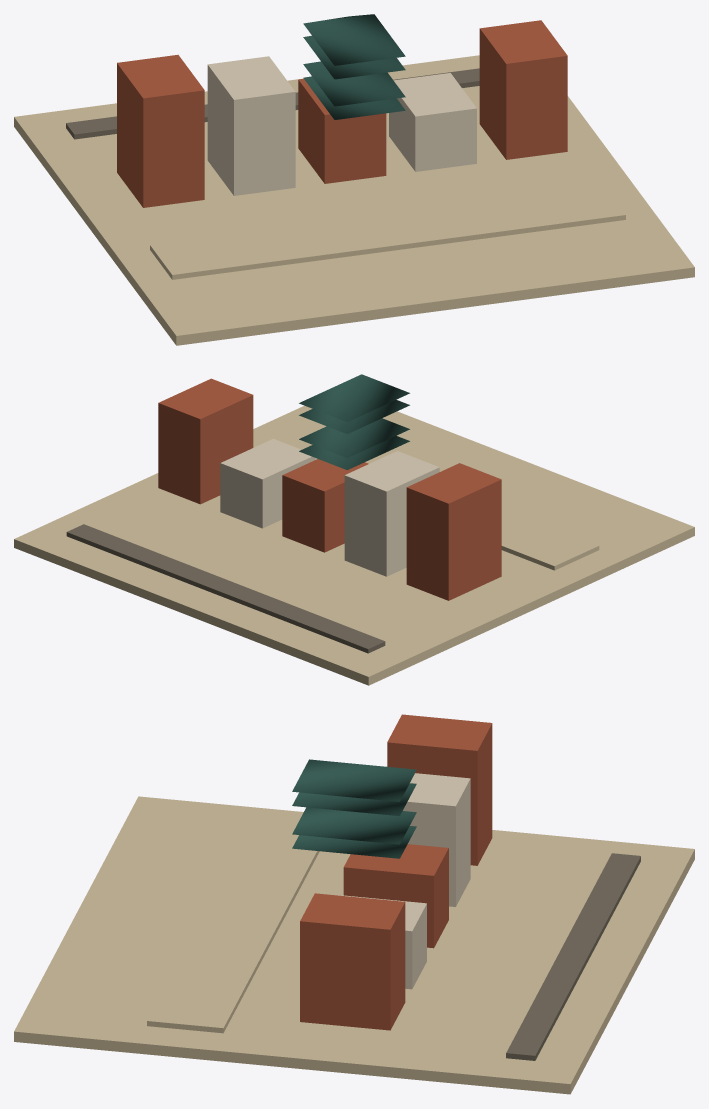
The model's file is model-medium.glb.
The picture shows the model from 3 angles, top to bottom: view 1: azimuth 30°, elevation 25°; view 2: azimuth 150°, elevation 25°; view 3: azimuth 270°, elevation 25°; orthographic projection. The views are drawn at different scales.
Parts seen in each view (by area): view 1: context_site_plinth, street_public_axis, street_facade_0, street_facade_1, street_facade_4, street_facade_3, street_facade_2, street_roof_0, street_roof_2, front_scale_strip, street_roof_1, street_roof_3; view 2: context_site_plinth, street_facade_0, street_facade_4, street_facade_1, front_scale_strip, street_facade_3, street_facade_2, street_public_axis, street_roof_0, street_roof_2, street_roof_3, street_roof_1; view 3: context_site_plinth, street_public_axis, street_facade_4, street_facade_0, front_scale_strip, street_facade_2, street_facade_1, street_roof_0, street_roof_2, street_facade_3, street_roof_1, street_roof_3.
Boxes of the visible parts, x1,y1,x2,y2 form: context_site_plinth: (14, 55, 694, 345); street_public_axis: (150, 185, 625, 279); street_facade_0: (117, 54, 204, 207); street_facade_1: (207, 56, 295, 195); street_facade_4: (479, 20, 567, 159); street_facade_3: (389, 73, 476, 171); street_facade_2: (298, 78, 386, 183); street_roof_0: (303, 14, 405, 65); street_roof_2: (303, 61, 405, 106); front_scale_strip: (66, 68, 479, 139); street_roof_1: (303, 29, 405, 79); street_roof_3: (303, 76, 405, 119); context_site_plinth: (14, 405, 694, 685); street_facade_0: (406, 463, 501, 600); street_facade_4: (158, 378, 253, 504); street_facade_1: (344, 451, 439, 576); front_scale_strip: (66, 524, 385, 653); street_facade_3: (220, 438, 315, 528); street_facade_2: (282, 459, 368, 552); street_public_axis: (253, 425, 599, 570); street_roof_0: (299, 374, 409, 421); street_roof_2: (299, 418, 409, 458); street_roof_3: (299, 435, 409, 470); street_roof_1: (299, 399, 409, 433); context_site_plinth: (14, 796, 694, 1094); street_public_axis: (147, 815, 319, 1033); street_facade_4: (300, 893, 405, 1030); street_facade_0: (387, 714, 492, 865); front_scale_strip: (506, 853, 640, 1060); street_facade_2: (343, 844, 448, 948); street_facade_1: (403, 773, 470, 906); street_roof_0: (292, 759, 416, 801); street_roof_2: (292, 807, 416, 844); street_facade_3: (336, 895, 426, 989); street_roof_1: (292, 783, 416, 815); street_roof_3: (292, 826, 416, 858).
Size of the model in its own units: 9.55 by 2.89 by 9.55.
